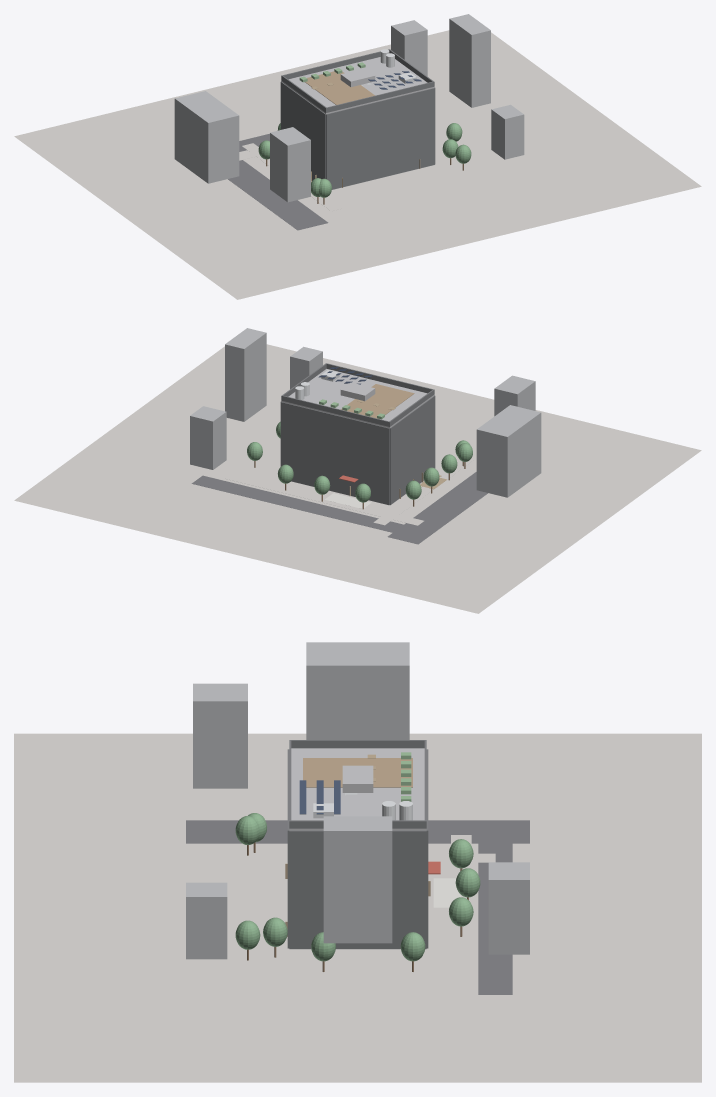
The picture shows the model from 3 angles, top to bottom: view 1: azimuth 30°, elevation 25°; view 2: azimuth 150°, elevation 25°; view 3: azimuth 270°, elevation 25°; orthographic projection. The views are drawn at different scales.
Visible parts, largest first — view 1: Site_Ground, Site_Neighbor_W, Site_Neighbor_E, Site_Neighbor_SW, Site_Road_Main, Roof_Main, Wall_F1_S, Wall_F5_S, Wall_F3_S, Wall_F2_S, Wall_F4_S, Site_Neighbor_SE (+8 smaller); view 2: Site_Ground, Site_Neighbor_W, Site_Neighbor_E, Site_Road_Community, Site_Road_Main, Roof_Main, Site_Neighbor_NE, Wall_F5_N, Wall_F3_N, Wall_F4_N, Wall_F2_N, Wall_F1_N (+13 smaller); view 3: Site_Ground, Site_Neighbor_W, Site_Neighbor_E, Site_Neighbor_SW, Roof_Main, Site_Road_Main, Site_Neighbor_NE, Site_Road_Community, Site_Neighbor_SE, Site_Roof_Deck, Wall_F1_E, Wall_F5_E (+8 smaller).
Boxes of the visible parts, x1=… form: Site_Ground: x1=14, y1=30, x2=701, y2=299; Site_Neighbor_W: x1=174, y1=91, x2=239, y2=183; Site_Neighbor_E: x1=449, y1=14, x2=490, y2=107; Site_Neighbor_SW: x1=270, y1=127, x2=310, y2=202; Site_Road_Main: x1=228, y1=160, x2=328, y2=230; Roof_Main: x1=281, y1=57, x2=434, y2=114; Wall_F1_S: x1=326, y1=146, x2=434, y2=189; Wall_F5_S: x1=326, y1=88, x2=434, y2=129; Wall_F3_S: x1=326, y1=117, x2=434, y2=158; Wall_F2_S: x1=326, y1=132, x2=434, y2=172; Wall_F4_S: x1=326, y1=103, x2=434, y2=143; Site_Neighbor_SE: x1=491, y1=104, x2=524, y2=159; Site_Ground: x1=14, y1=344, x2=701, y2=613; Site_Neighbor_W: x1=476, y1=405, x2=541, y2=497; Site_Neighbor_E: x1=225, y1=328, x2=266, y2=421; Site_Road_Community: x1=192, y1=475, x2=423, y2=539; Site_Road_Main: x1=387, y1=472, x2=487, y2=544; Roof_Main: x1=281, y1=369, x2=434, y2=428; Site_Neighbor_NE: x1=190, y1=406, x2=226, y2=469; Wall_F5_N: x1=281, y1=402, x2=389, y2=443; Wall_F3_N: x1=281, y1=431, x2=389, y2=472; Wall_F4_N: x1=281, y1=417, x2=389, y2=457; Wall_F2_N: x1=281, y1=446, x2=389, y2=486; Wall_F1_N: x1=281, y1=460, x2=389, y2=504; Site_Ground: x1=14, y1=733, x2=701, y2=1082; Site_Neighbor_W: x1=306, y1=642, x2=409, y2=739; Site_Neighbor_E: x1=323, y1=816, x2=392, y2=943; Site_Neighbor_SW: x1=193, y1=683, x2=247, y2=788; Roof_Main: x1=289, y1=748, x2=426, y2=830; Site_Road_Main: x1=186, y1=820, x2=529, y2=843; Site_Neighbor_NE: x1=488, y1=862, x2=529, y2=954; Site_Road_Community: x1=478, y1=820, x2=512, y2=994; Site_Neighbor_SE: x1=186, y1=882, x2=227, y2=959; Site_Roof_Deck: x1=303, y1=758, x2=412, y2=787; Wall_F1_E: x1=289, y1=921, x2=426, y2=948; Wall_F5_E: x1=289, y1=830, x2=426, y2=853.
Size of the model in its own units: 120 by 30.8 by 100.
